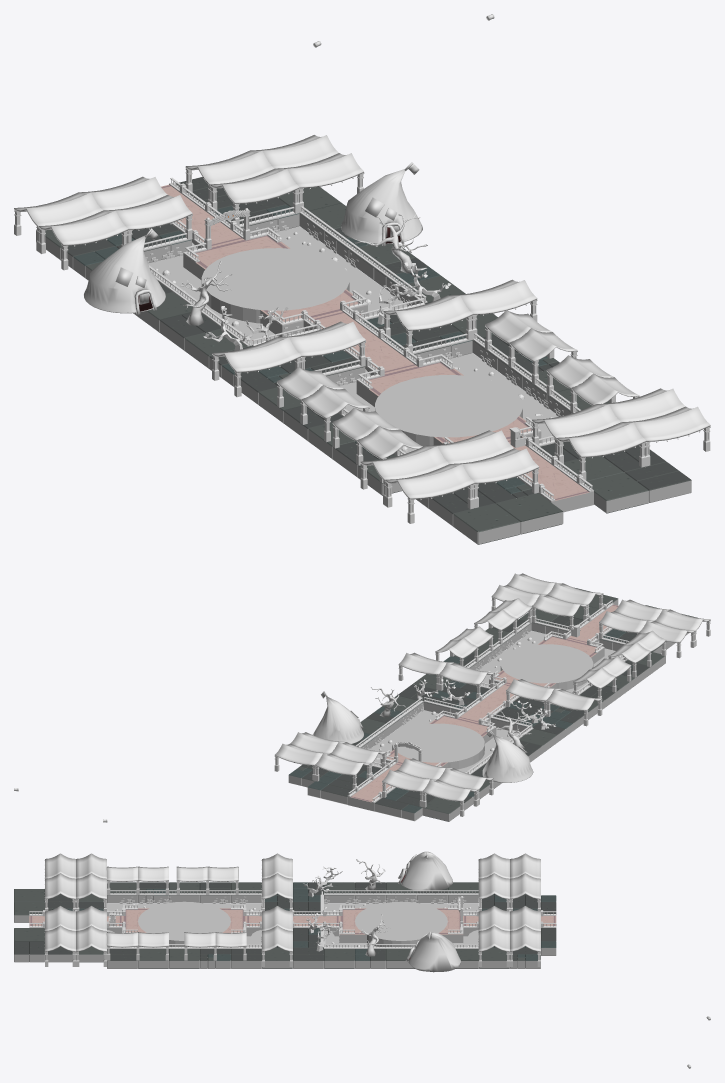
File: lvl9_world1.fbx
The picture shows the model from 3 angles, top to bottom: view 1: azimuth 30°, elevation 25°; view 2: azimuth 150°, elevation 25°; view 3: azimuth 270°, elevation 25°; orthographic projection. The views are drawn at different scales.
Visible parts, largest first — view 1: tent yellow.002, Cube.2013, tent.004, Cylinder.016, Cylinder.005, Plane.121, Cube.2023, Circle.009, Cube.1526, Cube.1955, Cube.1932, Cube.1541 (+3 smaller); view 2: tent yellow.002, Cube.2013, tent.004, Cylinder.005, Cylinder.016, Plane.121, Cube.2023, Circle.009, Cube.1541, Cube.1955, Cube.1526, Cube.028 (+1 smaller); view 3: Cube.2013, tent yellow.002, tent.004, Cylinder.016, Cylinder.005, Cube.2023, Plane.121, Circle.009, Cube.1932, Cube.1955, Cube.058, Cube.060 (+1 smaller).
Boxes of the visible parts, <box> form: tent yellow.002: <box>14,135,710,523</box>; Cube.2013: <box>36,177,691,544</box>; tent.004: <box>83,162,422,314</box>; Cylinder.016: <box>201,248,349,323</box>; Cylinder.005: <box>375,375,522,446</box>; Plane.121: <box>148,226,594,504</box>; Cube.2023: <box>143,206,580,455</box>; Circle.009: <box>181,214,451,350</box>; Cube.1526: <box>507,439,593,512</box>; Cube.1955: <box>303,311,416,375</box>; Cube.1932: <box>145,221,563,416</box>; Cube.1541: <box>161,184,242,248</box>; tent yellow.002: <box>274,573,710,816</box>; Cube.2013: <box>288,587,697,821</box>; tent.004: <box>312,691,533,782</box>; Cylinder.005: <box>500,644,593,690</box>; Cylinder.016: <box>392,723,484,769</box>; Plane.121: <box>307,630,622,821</box>; Cube.2023: <box>356,618,628,774</box>; Circle.009: <box>371,679,555,748</box>; Cube.1541: <box>347,763,401,811</box>; Cube.1955: <box>459,684,519,723</box>; Cube.1526: <box>567,604,618,644</box>; Cube.028: <box>546,636,604,661</box>; Cube.2013: <box>14,882,556,968</box>; tent yellow.002: <box>45,853,540,966</box>; tent.004: <box>398,851,460,972</box>; Cylinder.016: <box>355,901,447,946</box>; Cylinder.005: <box>138,901,230,946</box>; Cube.2023: <box>104,890,481,948</box>; Plane.121: <box>107,903,478,946</box>; Circle.009: <box>303,859,389,956</box>; Cube.1932: <box>119,896,478,946</box>; Cube.1955: <box>246,916,339,936</box>; Cube.058: <box>339,909,354,942</box>; Cube.060: <box>448,909,463,942</box>.
Bounding box in the file's own units: 28651 × 3735 × 44978.
